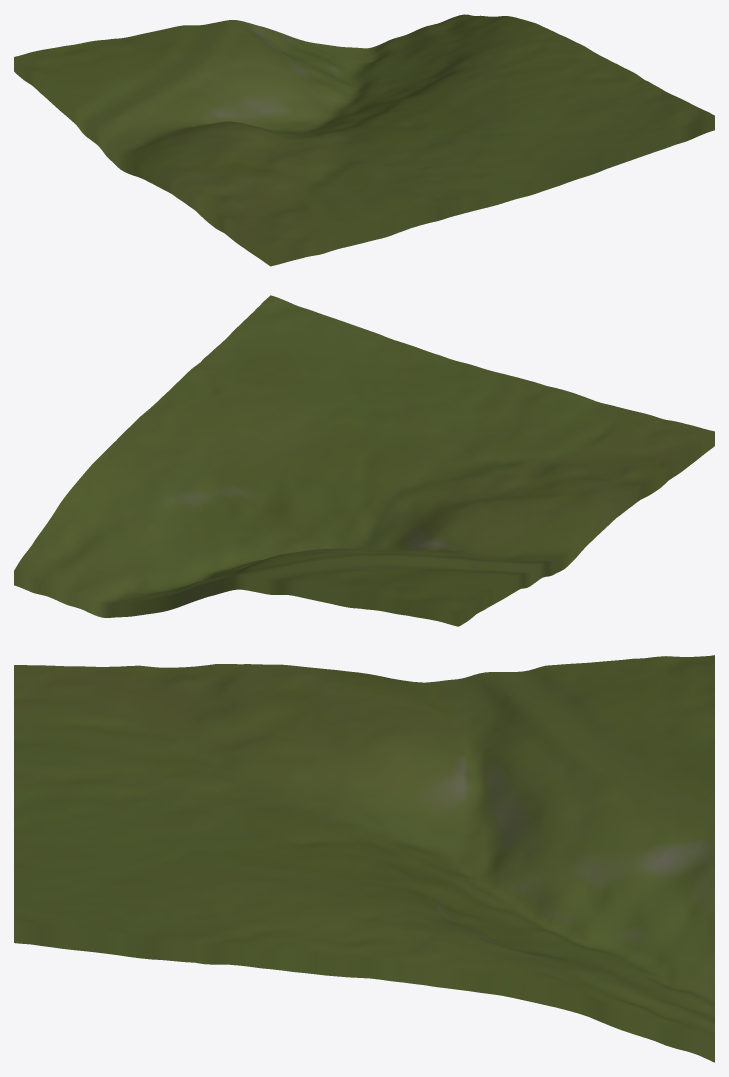
Rendered from terrain_1_-2.glb.
3 renders of one model, top to bottom at view 1: azimuth 30°, elevation 25°; view 2: azimuth 150°, elevation 25°; view 3: azimuth 270°, elevation 25°, orthographic. The views are drawn at different scales.
Visible parts, largest first — view 1: terrain_1_-2; view 2: terrain_1_-2; view 3: terrain_1_-2.
Boxes of the visible parts, bbox=[...] form: terrain_1_-2: bbox=[14, 14, 714, 266]; terrain_1_-2: bbox=[14, 295, 714, 626]; terrain_1_-2: bbox=[14, 655, 714, 1062].
Size of the model in its own units: 256 by 62.23 by 256.
